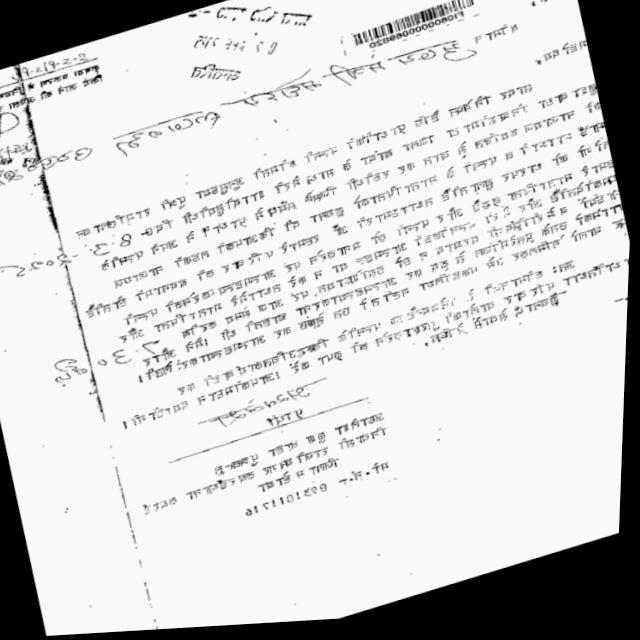antritgovtstamp: (161, 0, 323, 101)
barcode: (343, 0, 484, 59)
signnamestamp: (0, 96, 61, 192)
